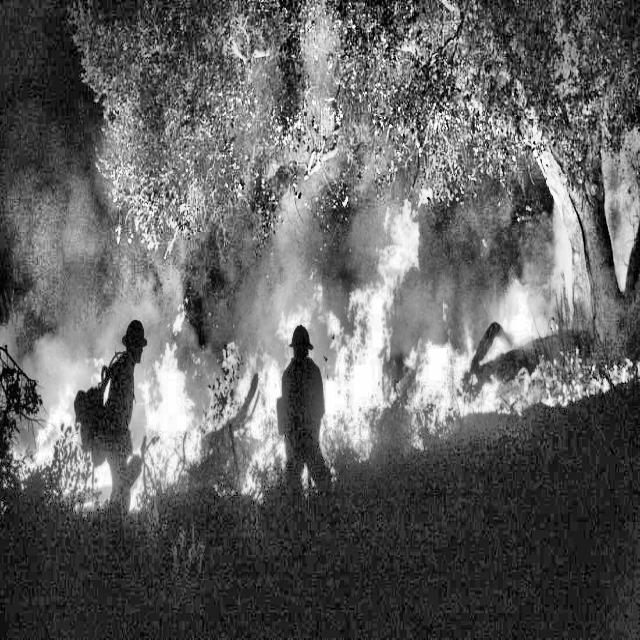fire: (4, 227, 610, 520)
